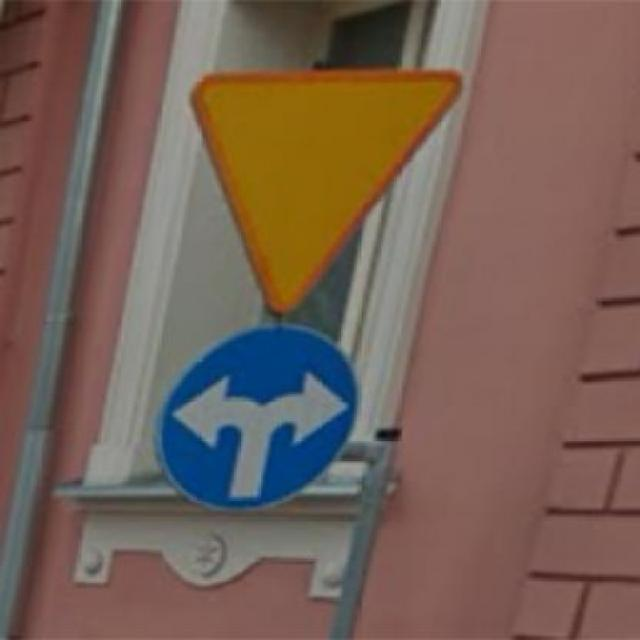Ustap pierwszenstwa: (185, 66, 467, 323)
